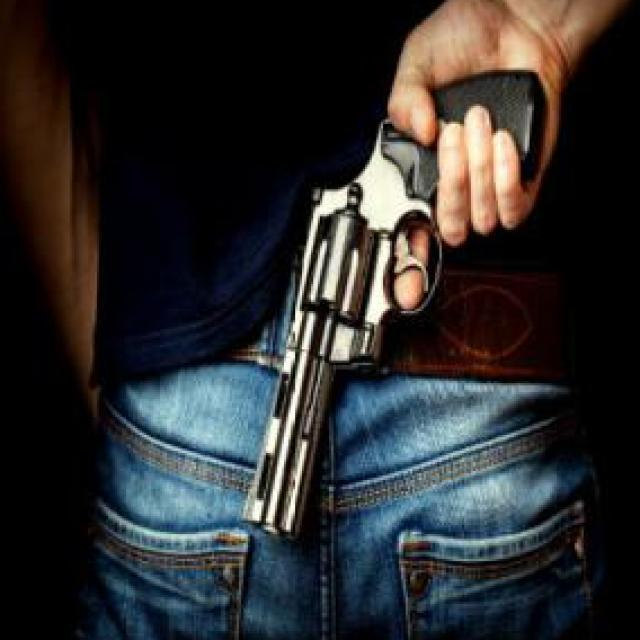pistol: (241, 61, 549, 542)
